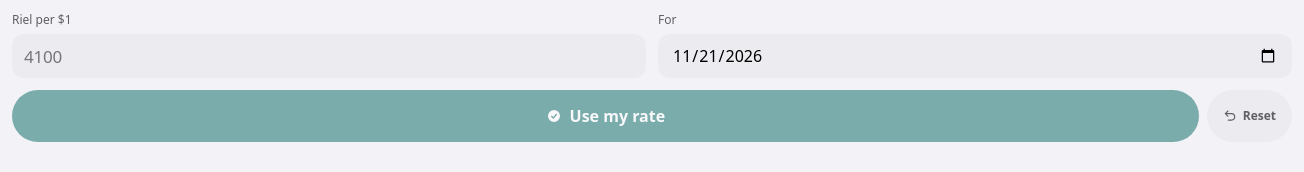
manual rate feedback › shows reset progress on Reset and prevents a second action until it finishes
In the field labelled "Riel per $1": (329, 56) [12,34,646,78], type "4050"
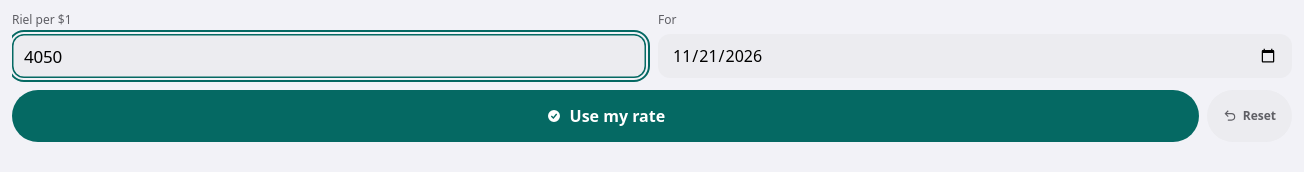
Click the button "Reset": (1249, 116) [1207,90,1292,142]
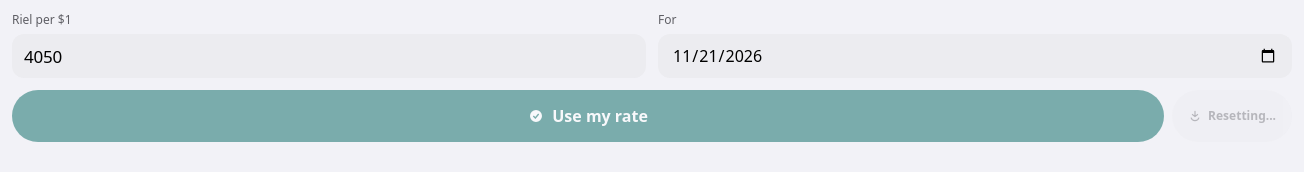
Result: the button "Resetting..." is disabled
Result: the button "Use my rate" is disabled at [12,90,1164,142]
Click the button "Resetting...": (1232, 116) [1172,90,1292,142]
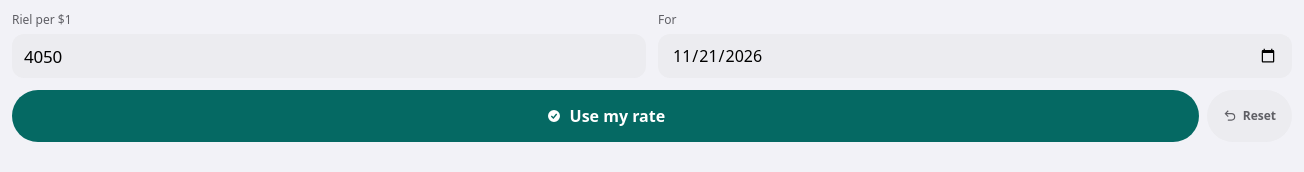
Result: the button "Reset" is enabled at [1207,90,1292,142]
Result: the button "Use my rate" is enabled at [12,90,1199,142]
